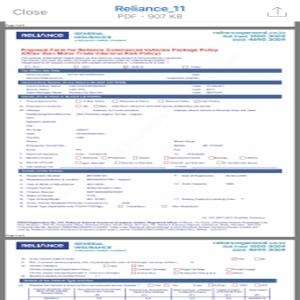image: (16, 28, 72, 41)
table: (19, 278, 276, 300)
text: (18, 99, 261, 168), (20, 174, 249, 210), (23, 84, 229, 96), (18, 46, 219, 57), (209, 29, 287, 43)
